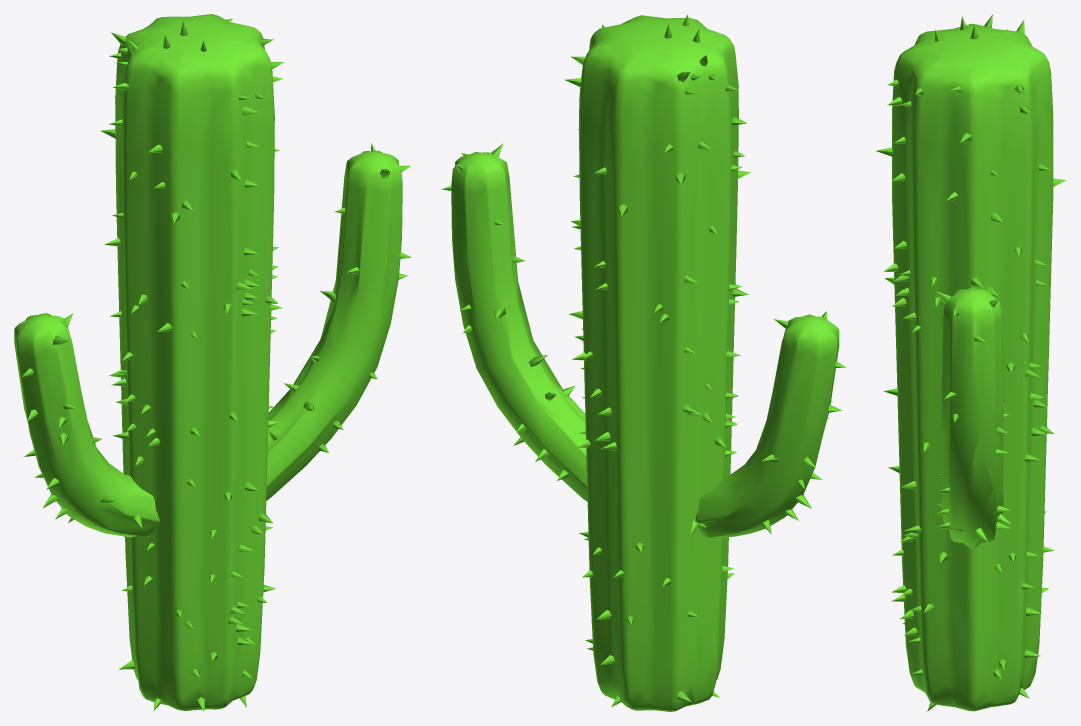
Rendered from Cactus01.fbx.
3 renders of one model, left to right at view 1: azimuth 30°, elevation 25°; view 2: azimuth 150°, elevation 25°; view 3: azimuth 270°, elevation 25°, orthographic.
Parts seen in each view (by area): view 1: Trunk_2; view 2: Trunk_2; view 3: Trunk_2.
Part boxes in pixels (left/top/right/bottom): Trunk_2: left=14, top=14, right=402, bottom=711; Trunk_2: left=451, top=15, right=839, bottom=711; Trunk_2: left=892, top=23, right=1053, bottom=711.
Bounding box in the file's own units: 605 × 1005 × 261.
